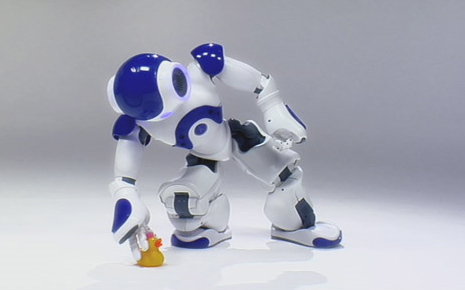nao: (91, 31, 358, 290)
